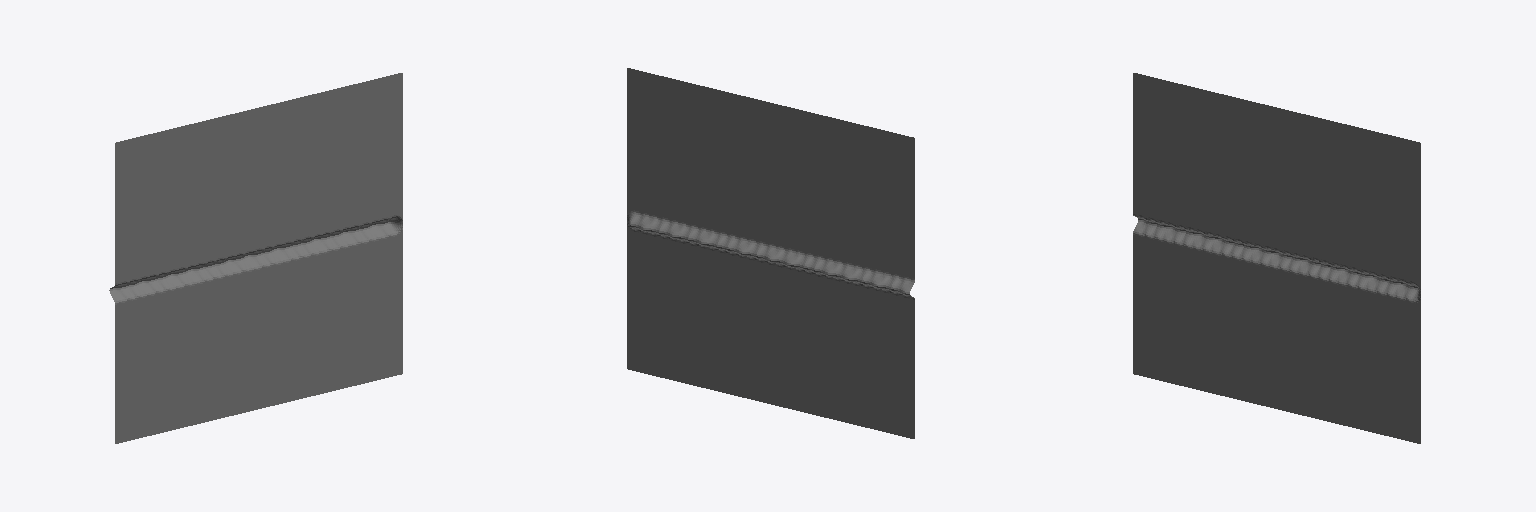
File: ditch_surface.obj
3 renders of one model, left to right at view 1: azimuth 30°, elevation 25°; view 2: azimuth 150°, elevation 25°; view 3: azimuth 330°, elevation 25°, orthographic.
Size of the model in its own units: 29.85 by 29.85 by 1.16.